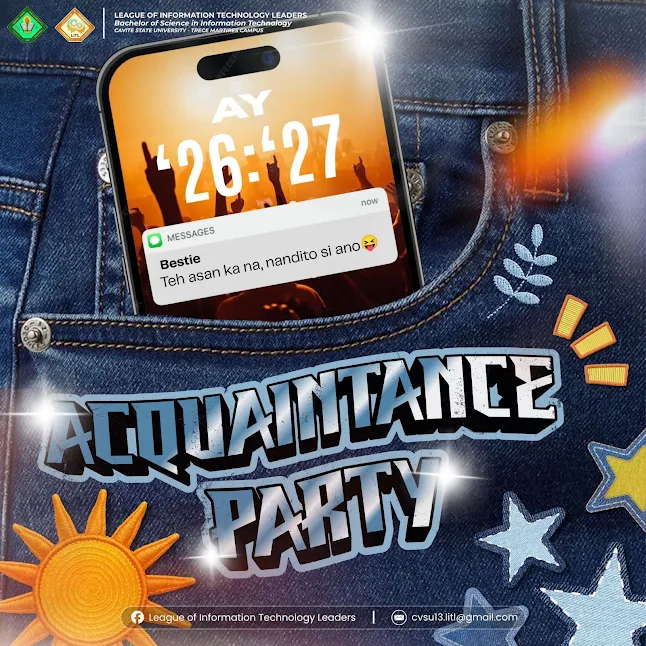embellishment: (389, 606, 409, 627), (130, 607, 145, 627)
logo: (6, 4, 52, 47), (53, 5, 97, 46)
text: (111, 7, 311, 38), (146, 608, 363, 627), (409, 609, 522, 627)
